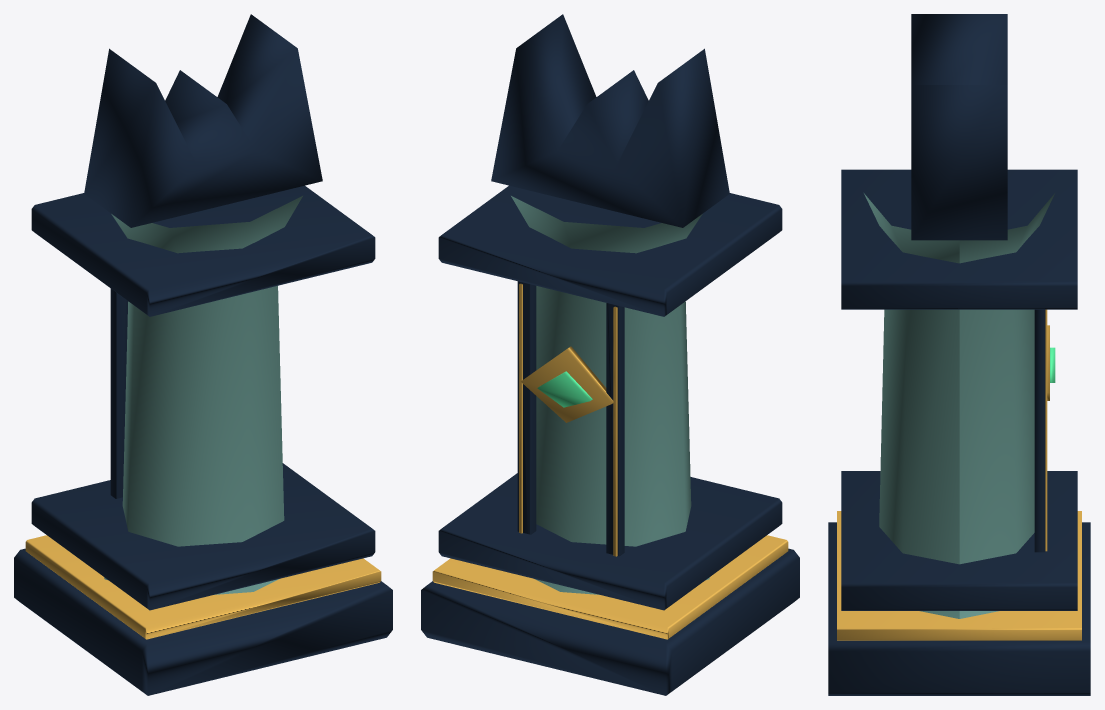
File: prop_0_2.glb
3 views of the same model, side by side, from view 1: azimuth 30°, elevation 25°; view 2: azimuth 150°, elevation 25°; view 3: azimuth 270°, elevation 25° (orthographic). The views are drawn at different scales.
Visible parts, largest first — view 1: Cornice (×2), CarvedPillar, SplitCrown, Plinth, PlinthGold, Fluting; view 2: Cornice (×2), CarvedPillar, SplitCrown, Plinth, PlinthGold, Fluting (×2), CarvedEye, GiltFluting (×2), EyeInset; view 3: Cornice (×2), CarvedPillar, SplitCrown, Plinth, PlinthGold, Fluting, GiltFluting.
Boxes of the visible parts, bbox=[...] form: Cornice (×2): bbox=[31, 185, 375, 610]; CarvedPillar: bbox=[104, 196, 302, 594]; SplitCrown: bbox=[84, 14, 322, 227]; Plinth: bbox=[14, 548, 392, 695]; PlinthGold: bbox=[25, 535, 381, 639]; Fluting: bbox=[110, 288, 128, 498]; Cornice (×2): bbox=[438, 185, 782, 610]; CarvedPillar: bbox=[511, 196, 709, 594]; SplitCrown: bbox=[491, 14, 729, 227]; Plinth: bbox=[421, 548, 799, 695]; PlinthGold: bbox=[432, 535, 788, 639]; Fluting (×2): bbox=[517, 281, 624, 556]; CarvedEye: bbox=[521, 346, 613, 422]; GiltFluting (×2): bbox=[519, 283, 617, 556]; EyeInset: bbox=[537, 371, 592, 407]; Cornice (×2): bbox=[841, 169, 1077, 610]; CarvedPillar: bbox=[864, 193, 1054, 618]; SplitCrown: bbox=[911, 14, 1007, 240]; Plinth: bbox=[828, 522, 1090, 695]; PlinthGold: bbox=[837, 511, 1081, 640]; Fluting: bbox=[1034, 309, 1045, 552]; GiltFluting: bbox=[1045, 309, 1047, 551].
Bounding box in the file's own units: 1.7 × 3.7 × 1.5.
